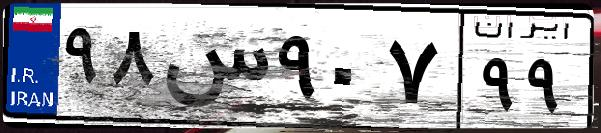0: (330, 28, 385, 110)
7: (385, 28, 445, 110)
8: (110, 28, 158, 98)
9: (270, 28, 330, 110), (57, 26, 110, 100), (475, 38, 525, 113), (525, 38, 570, 115)
س: (158, 20, 270, 120)
